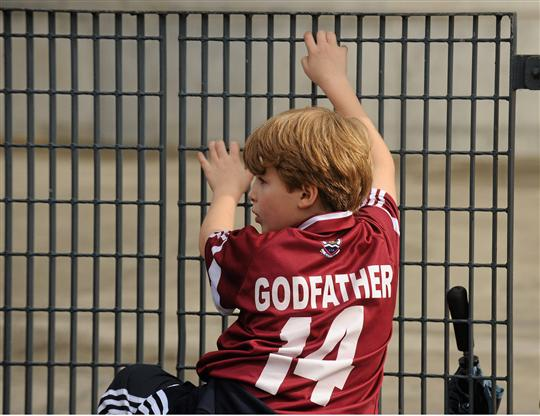player: (204, 93, 408, 406)
